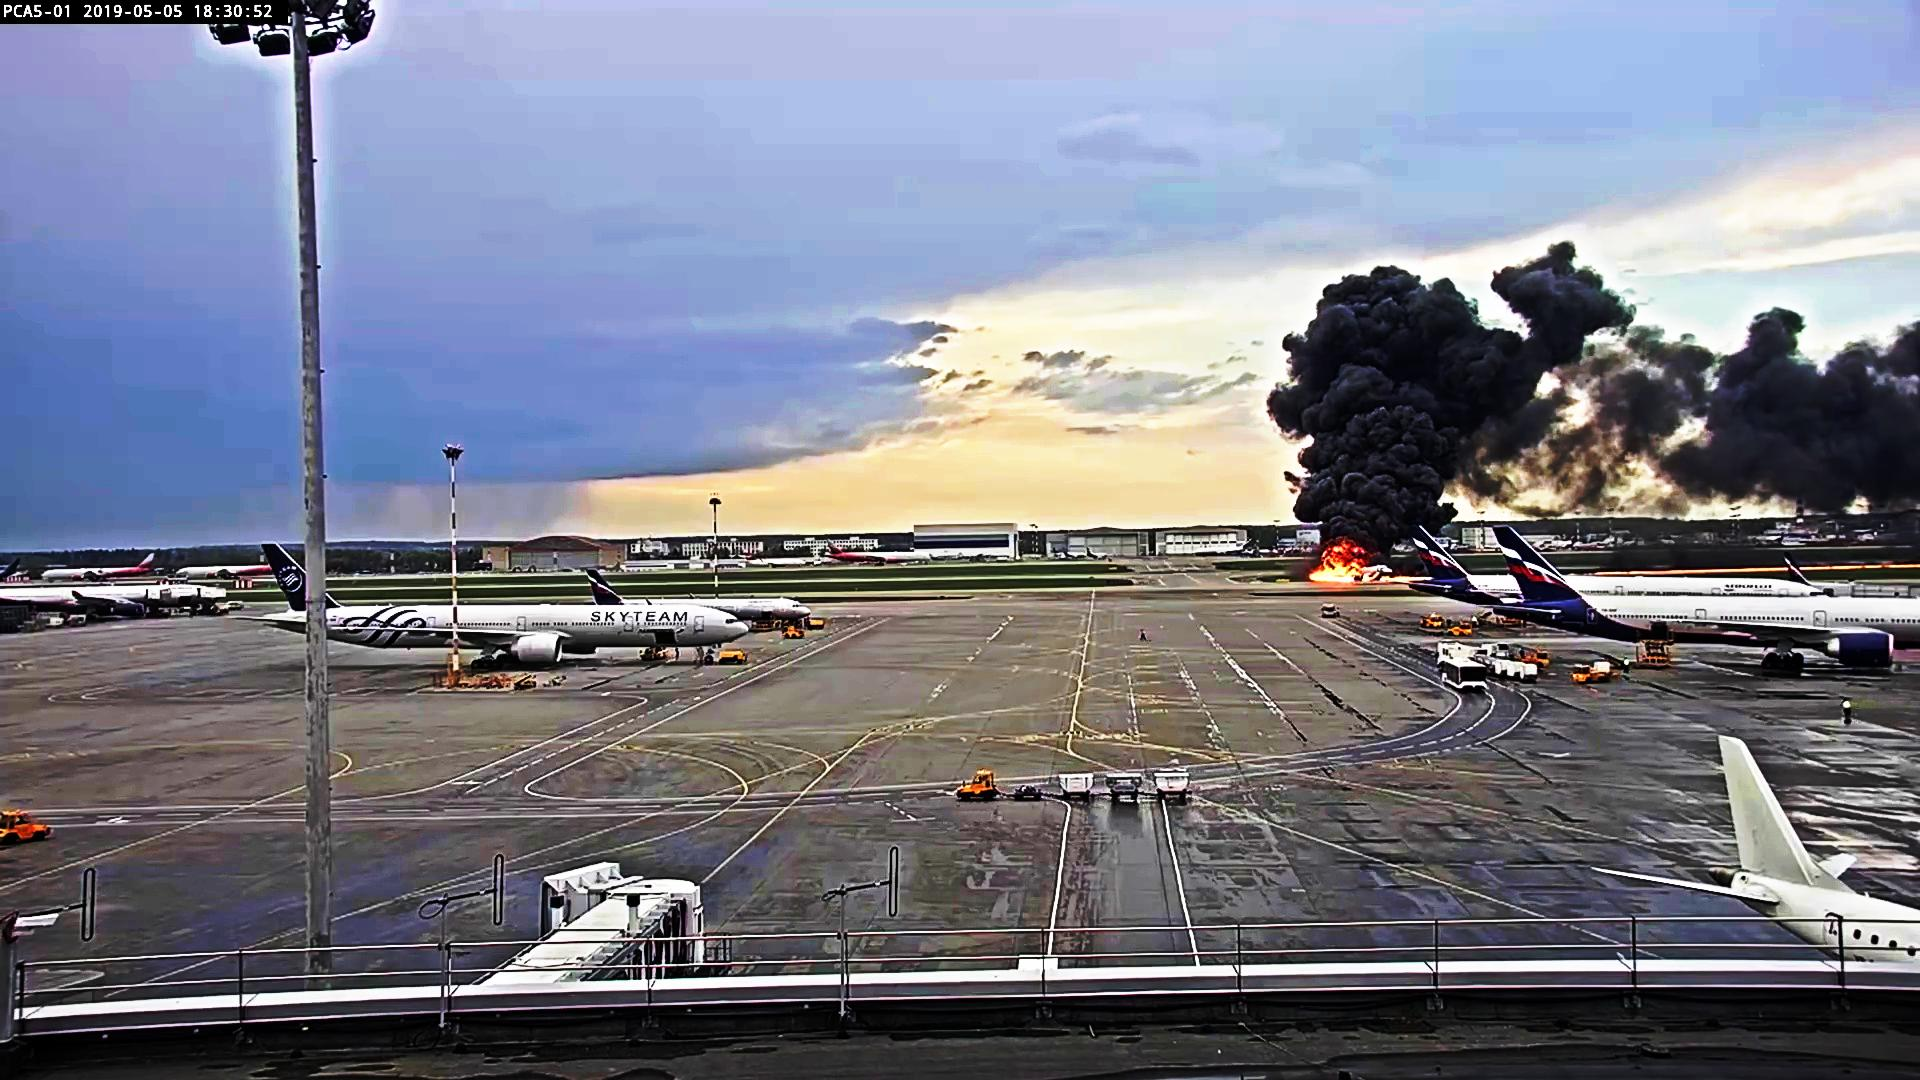fire: (1316, 542, 1367, 574)
smoke: (1263, 258, 1473, 530), (1501, 233, 1617, 360)
